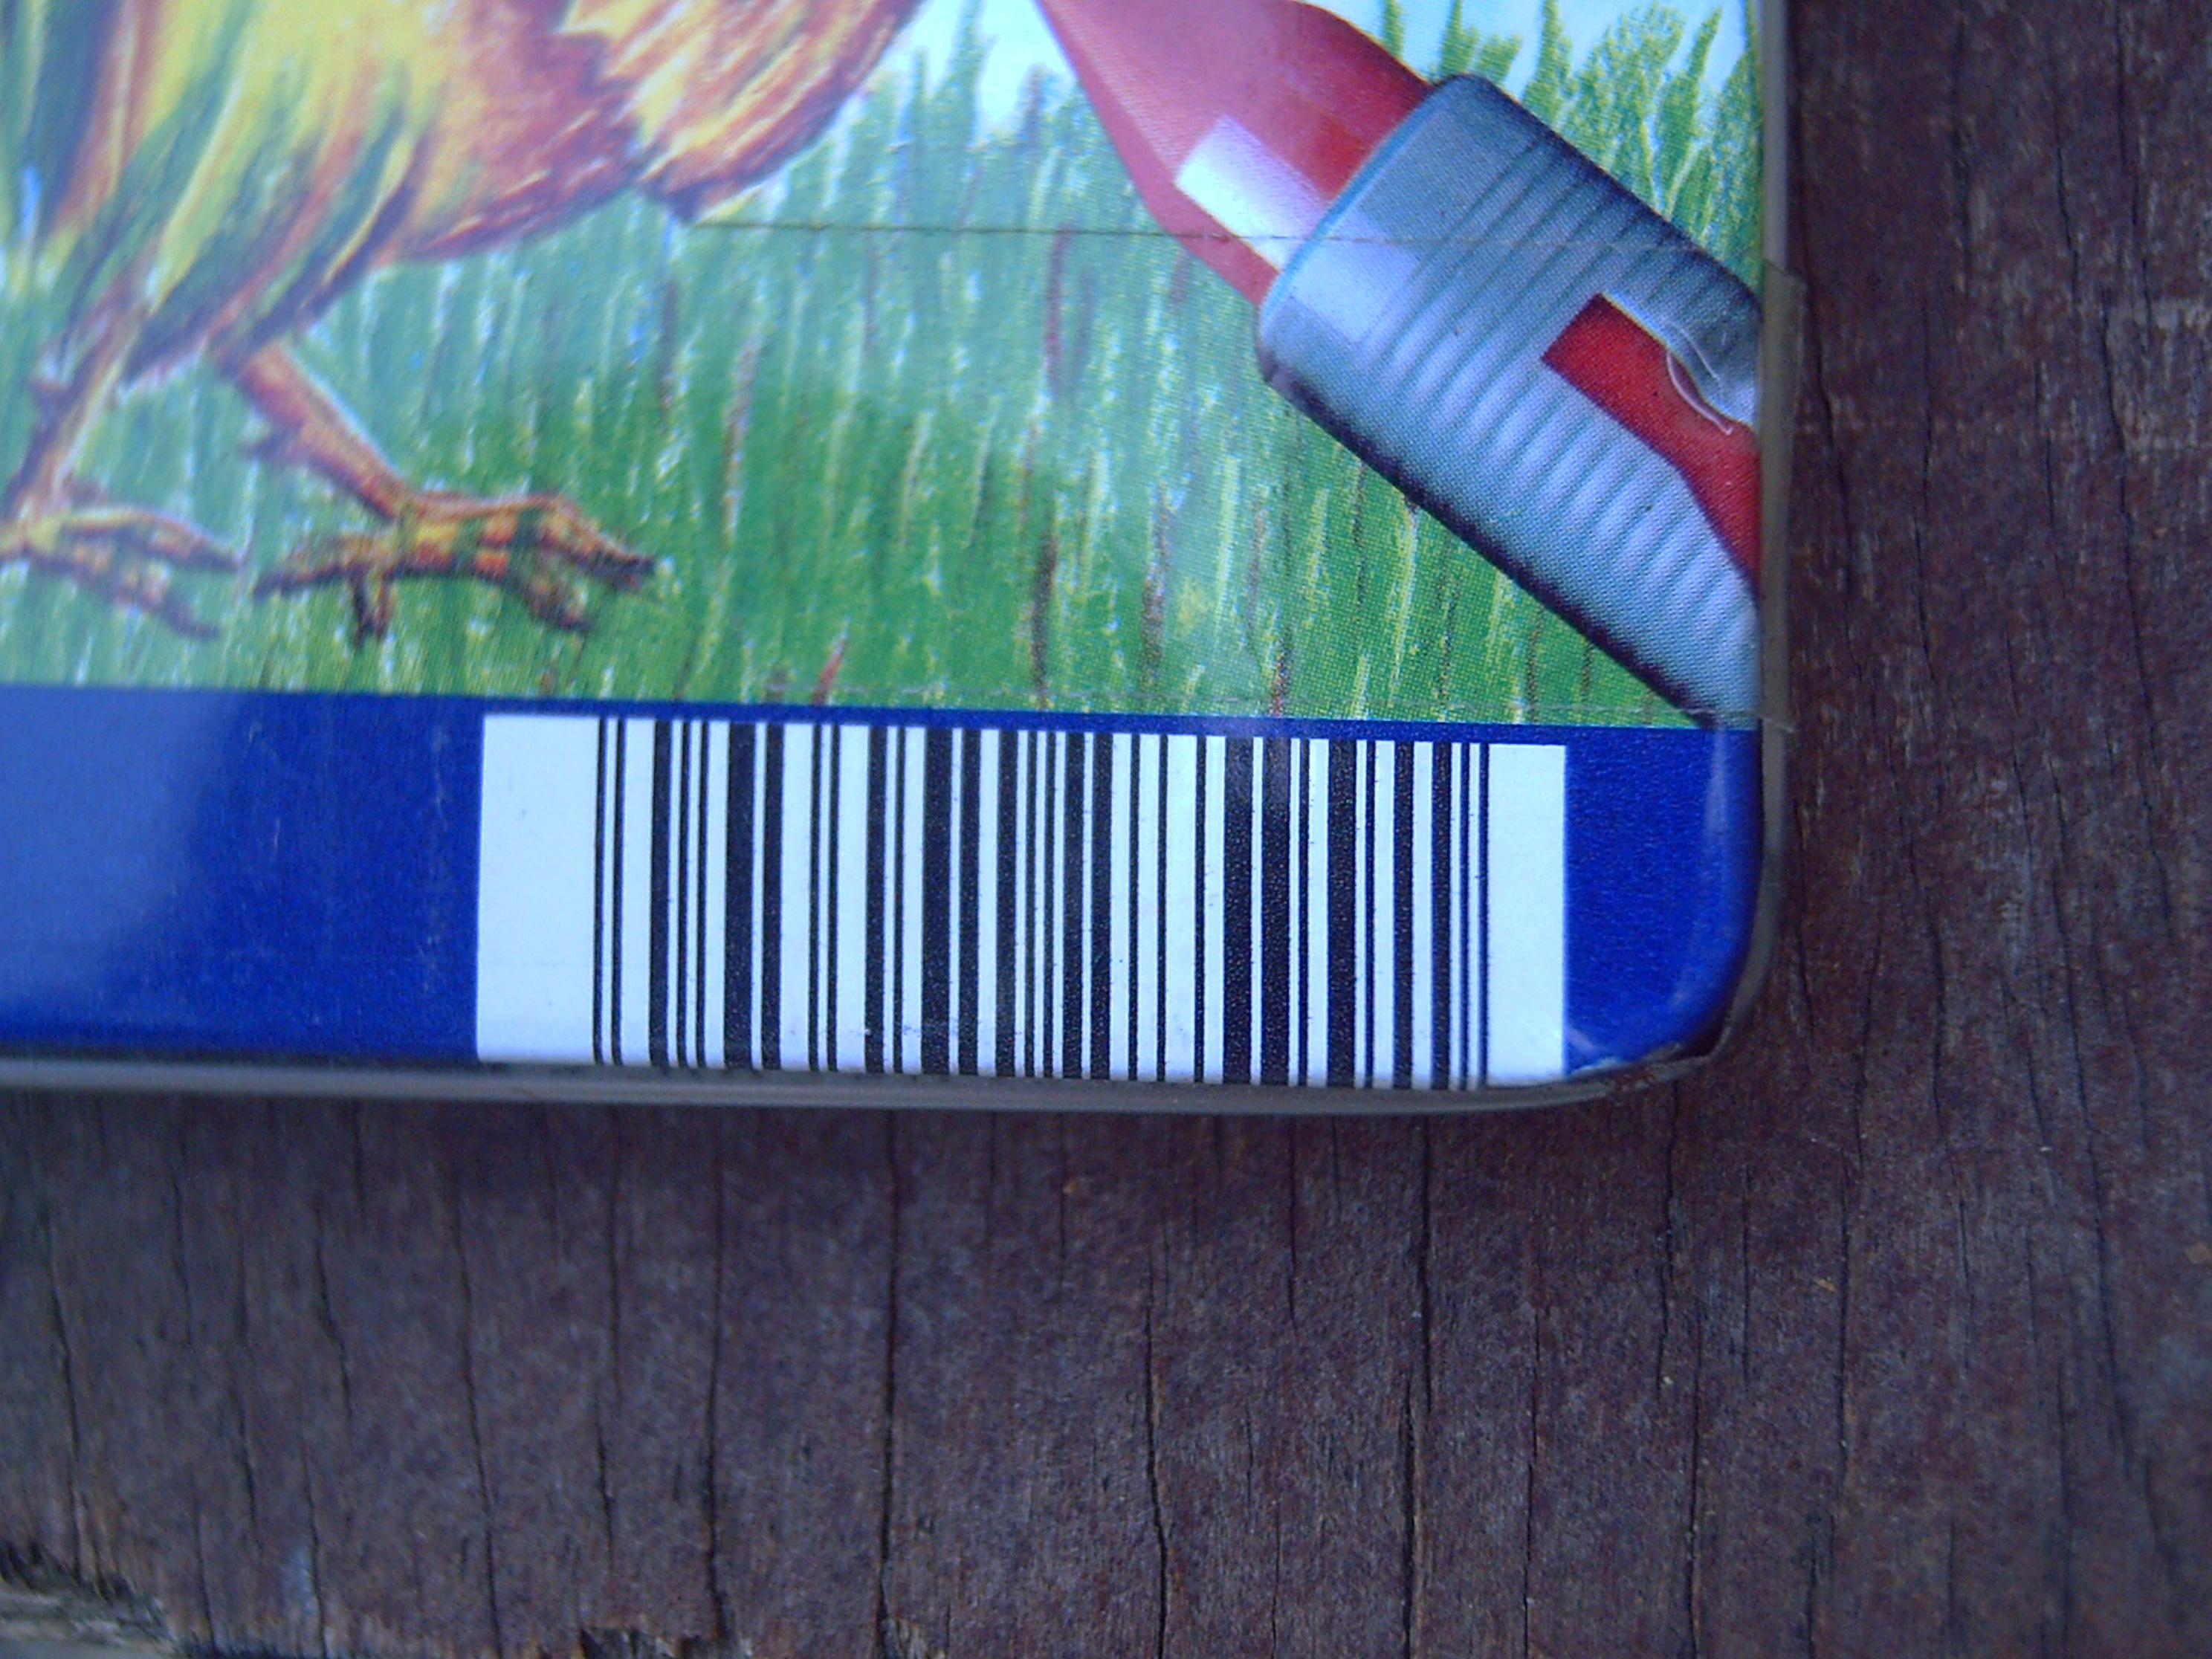barcode: (482, 713, 1568, 1086)
